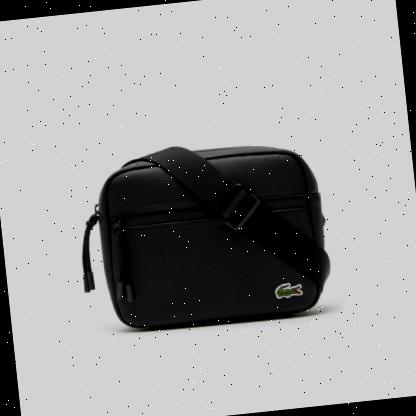bag: (64, 126, 344, 346)
